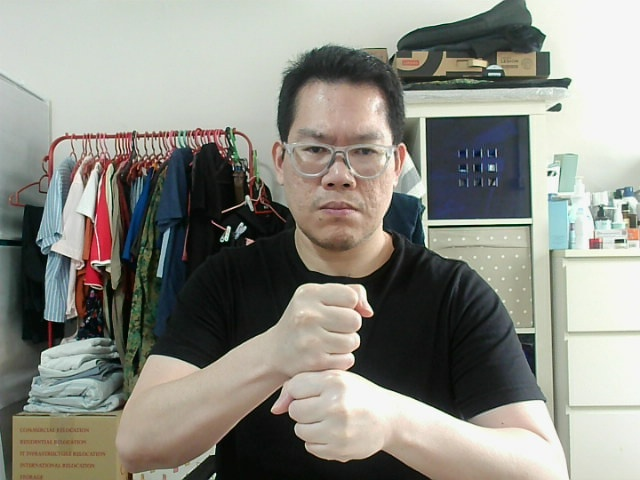get: (271, 291, 369, 360)
